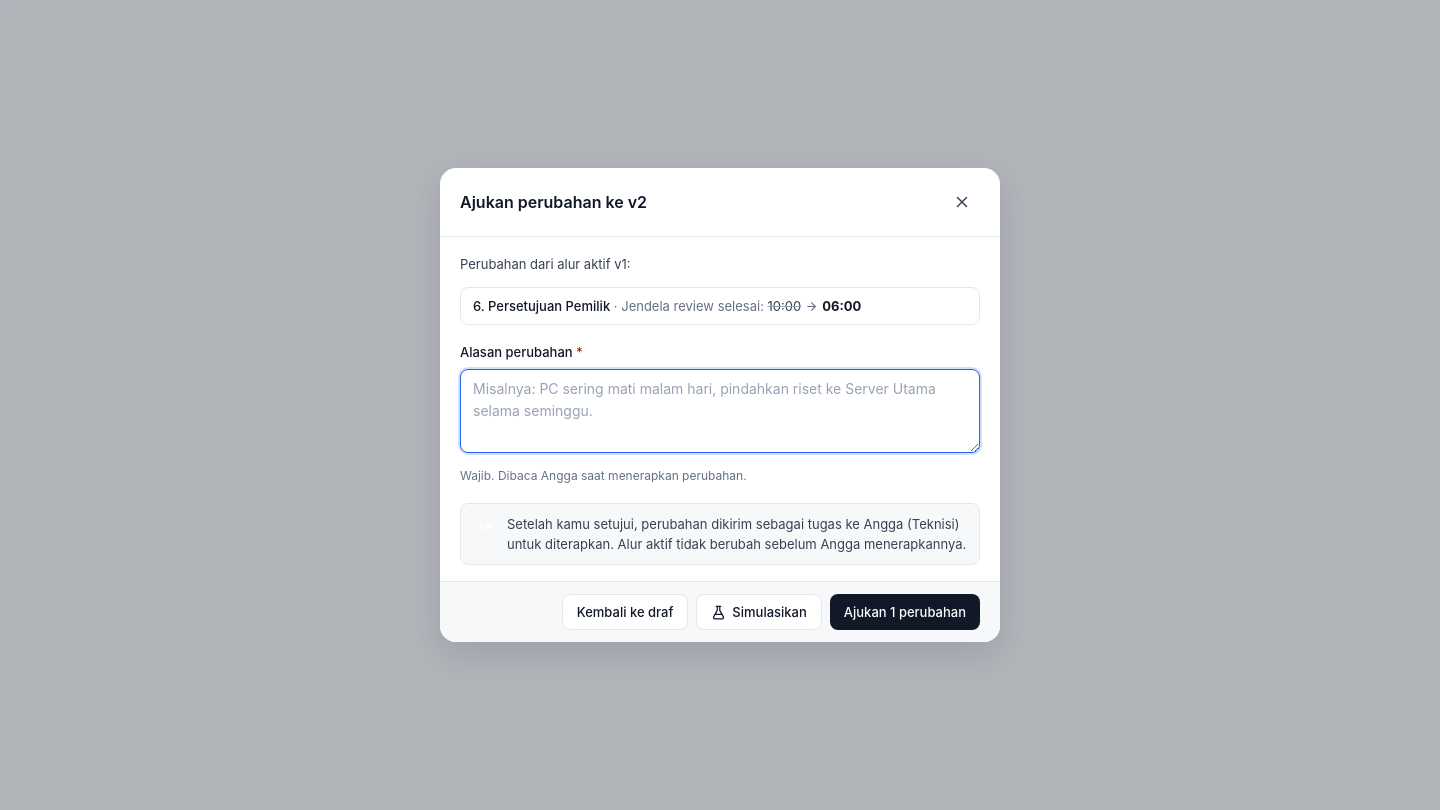
Alur Kerja — simulasi › simulasi tanpa masalah ditandai lolos
Click the button "Simulasikan". click: coordinates (759, 612)
box: [696,594,822,630]
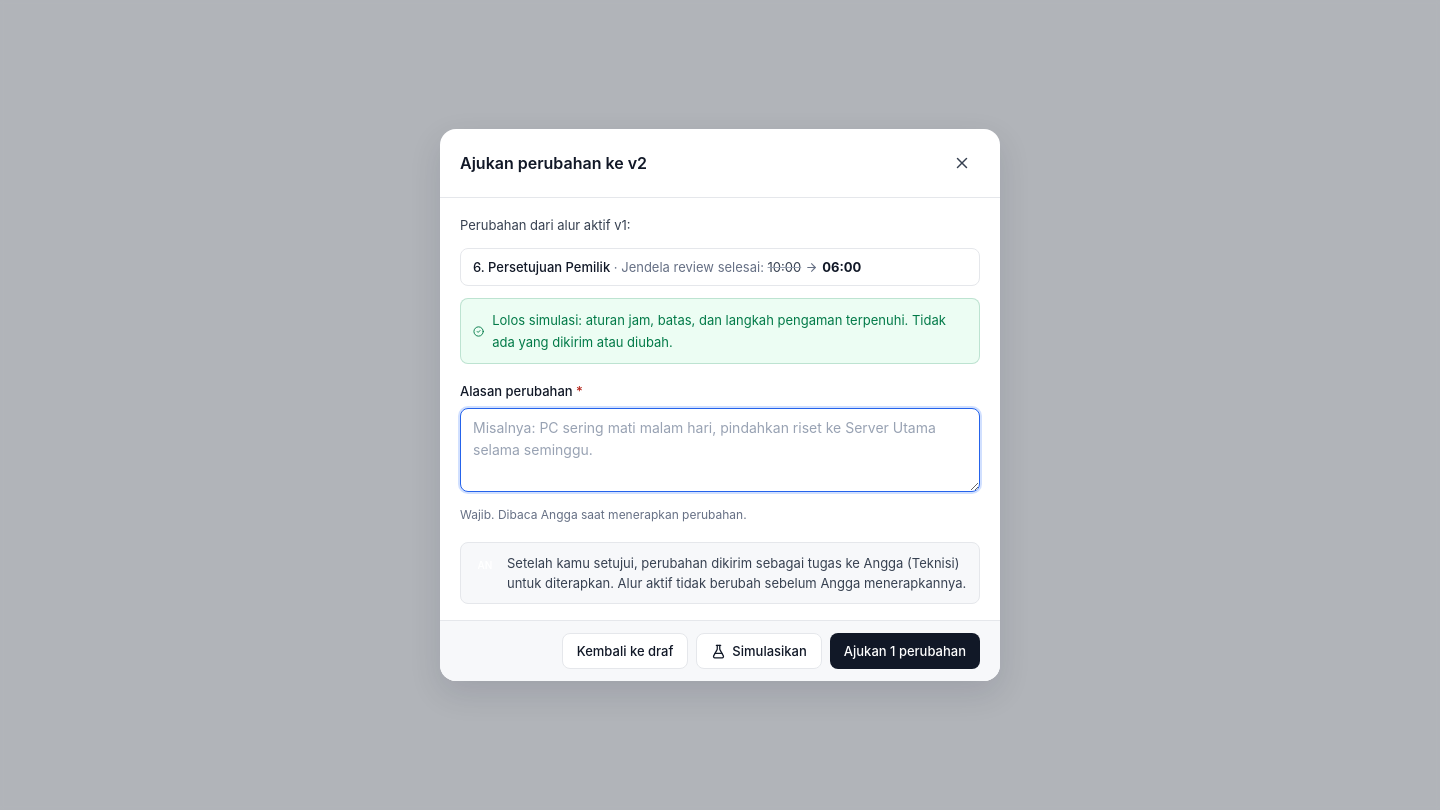
Now the text "Lolos simulasi" is shown, box [492,312,946,350]
